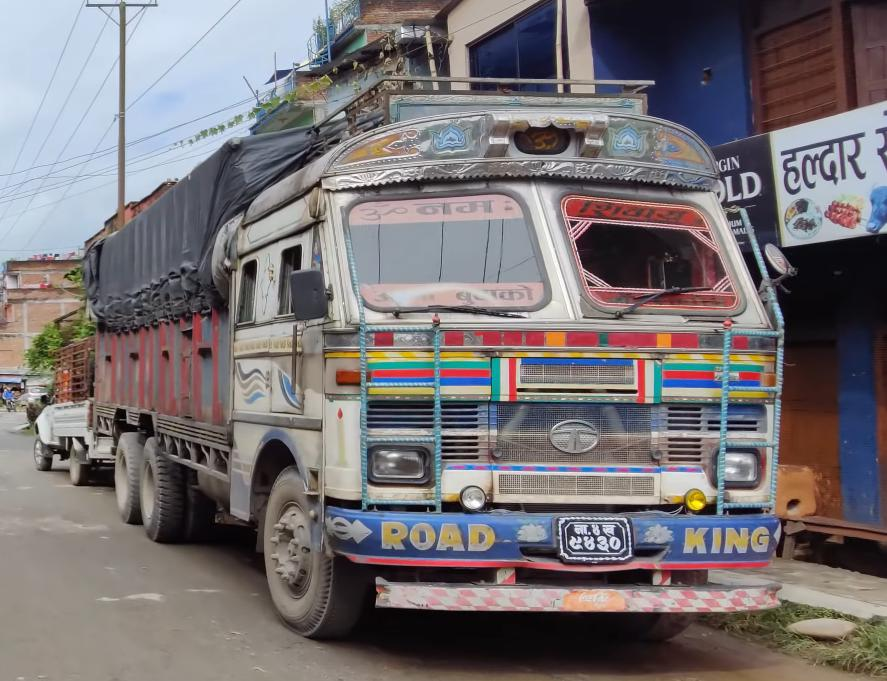transport_vehicle: (30, 337, 125, 487)
truck: (78, 83, 796, 643)
